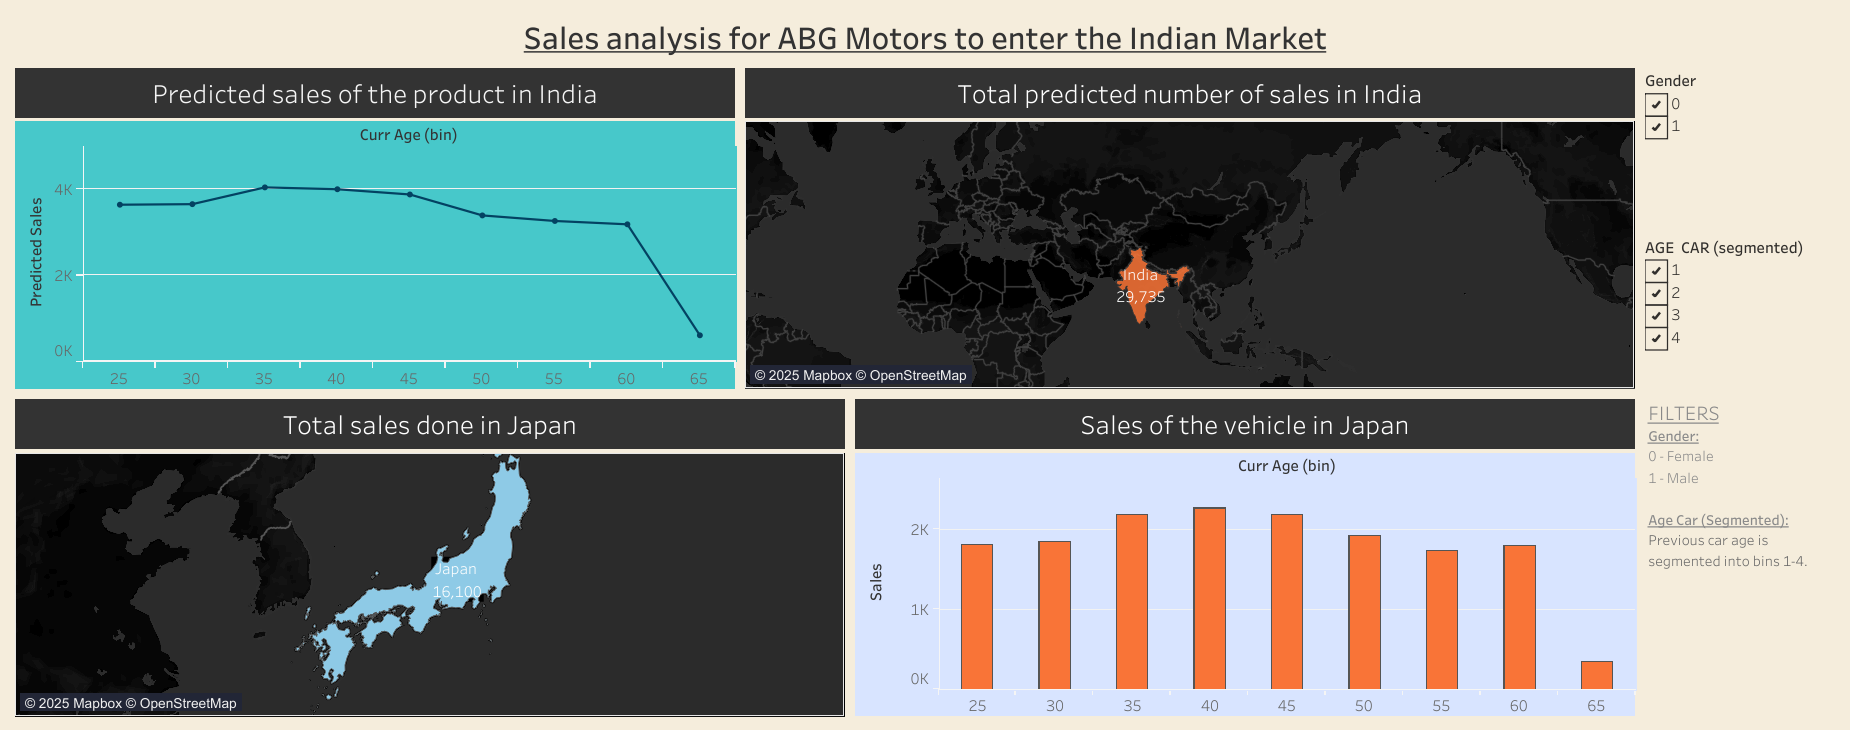

Layout of this report page (visuals, bound fields, positions):
{"tool":"tableau","page":{"name":"Dashboard 1","canvas":[1000,1000],"units":"permille","ordinal":0},"visuals":[{"type":"title","box":[5.3,10.2,989.5,62.7]},{"type":"worksheet","title":"Sheet 2","mark":"Line","rows":["Prediction"],"cols":["Curr Age (bin)"],"box":[5.3,72.9,396,460.9]},{"type":"worksheet","title":"Sheet 3","mark":"Multipolygon","box":[401.3,72.9,487.5,460.9]},{"type":"filter","title":"Sheet 1","param":"[federated.0e6vfvs1ve26v4172cpgf0hr656u].[none:GENDER:ok]","box":[888.8,72.9,105.9,200.8]},{"type":"filter","title":"Sheet 1","param":"[federated.0e6vfvs1ve26v4172cpgf0hr656u].[none:AGE _CAR (segmented):nk]","box":[888.8,273.7,105.9,260.5]},{"type":"worksheet","title":"Sheet 4","mark":"Multipolygon","box":[5.3,533.8,455.2,456]},{"type":"worksheet","title":"Sheet 1","mark":"Bar","rows":["Prediction"],"cols":["Curr Age (bin)"],"box":[460.5,533.8,428.3,456]},{"type":"text","box":[888.8,534.1,105.9,230.2]}]}

Visuals, with their boxes on the dashboard's canvas, which has no fixed pixel size, in thousandths of its width and height (x1, y1, x2, y2). These are canvas units, not pixel positions in the 1850x730 screenshot, which may show the page scaled, cropped or inside an application window:
title: (x1=5, y1=10, x2=995, y2=73)
"Sheet 2" worksheet (Line marks): (x1=5, y1=73, x2=401, y2=534)
"Sheet 3" worksheet (Multipolygon marks): (x1=401, y1=73, x2=889, y2=534)
"Sheet 1" filter: (x1=889, y1=73, x2=995, y2=274)
"Sheet 1" filter: (x1=889, y1=274, x2=995, y2=534)
"Sheet 4" worksheet (Multipolygon marks): (x1=5, y1=534, x2=460, y2=990)
"Sheet 1" worksheet (Bar marks): (x1=460, y1=534, x2=889, y2=990)
text: (x1=889, y1=534, x2=995, y2=764)
